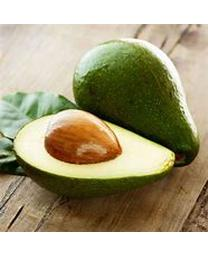avocado: (71, 39, 200, 170), (8, 107, 177, 193)
